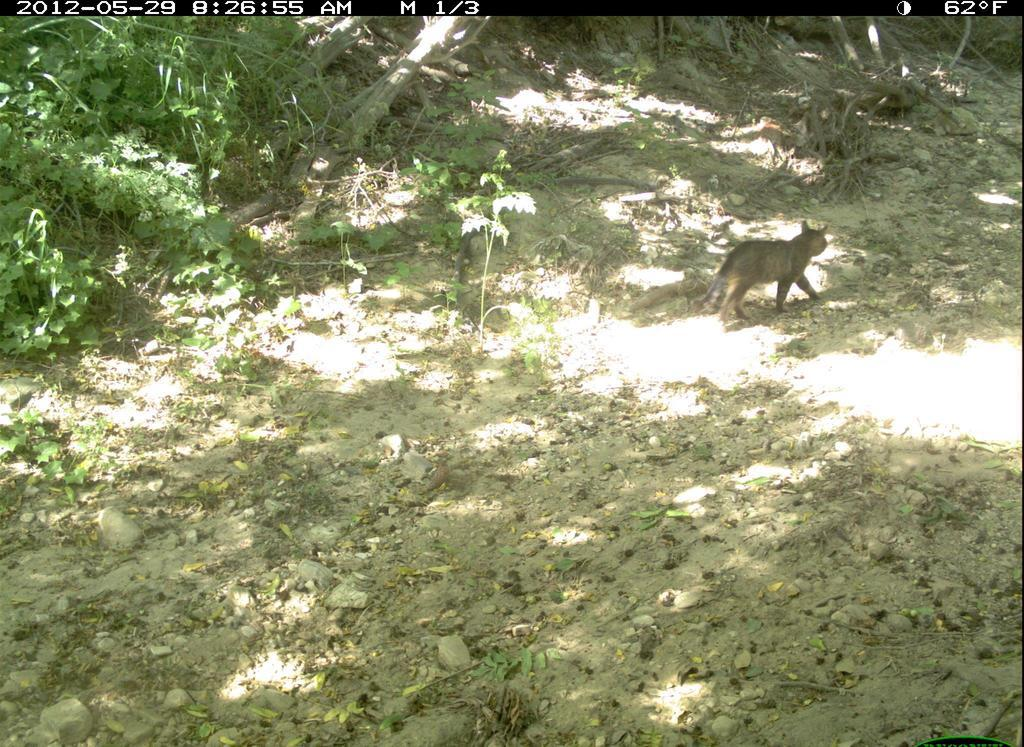cat: (692, 212, 836, 340)
